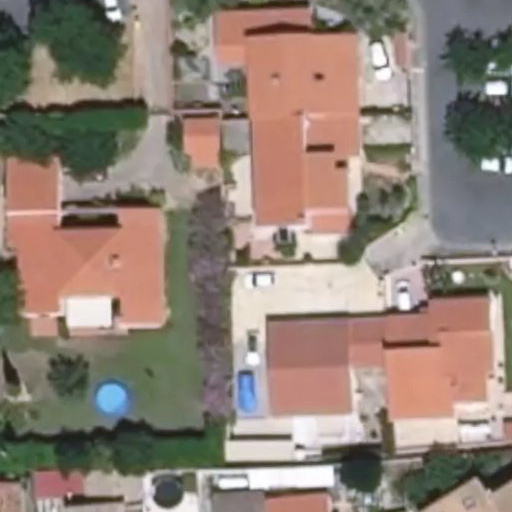pool: (96, 384, 127, 413)
